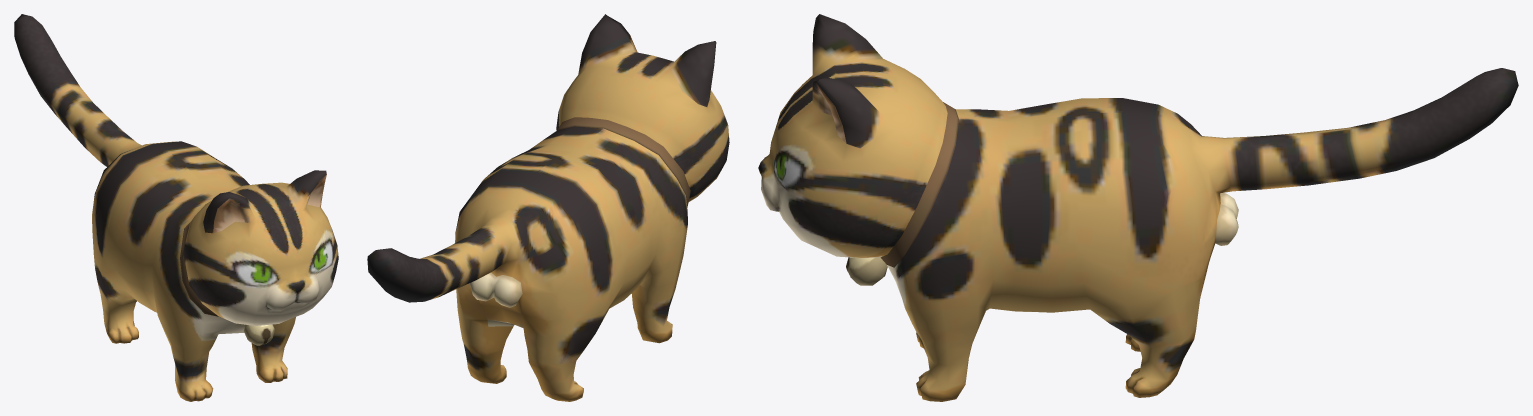
File: FurCat-Base.fbx
3 renders of one model, left to right at view 1: azimuth 30°, elevation 25°; view 2: azimuth 150°, elevation 25°; view 3: azimuth 270°, elevation 25°, orthographic. The views are drawn at different scales.
Parts seen in each view (by area): view 1: JYCmaoL_1_0_L_0; view 2: JYCmaoL_1_0_L_0; view 3: JYCmaoL_1_0_L_0.
Boxes of the visible parts, x1,y1,x2,y2 form: JYCmaoL_1_0_L_0: (14,14,338,401); JYCmaoL_1_0_L_0: (367,14,729,401); JYCmaoL_1_0_L_0: (758,14,1518,401).
Bounding box in the file's own units: 41.65 × 70.44 × 151.
